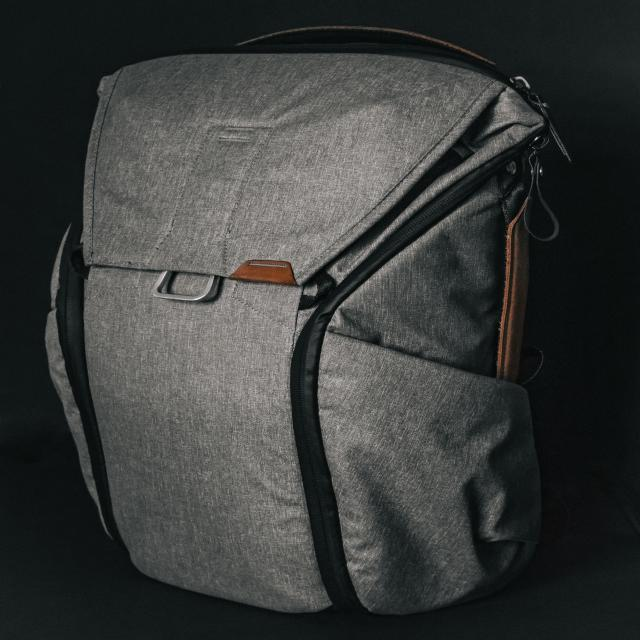backpack: (33, 29, 567, 608)
